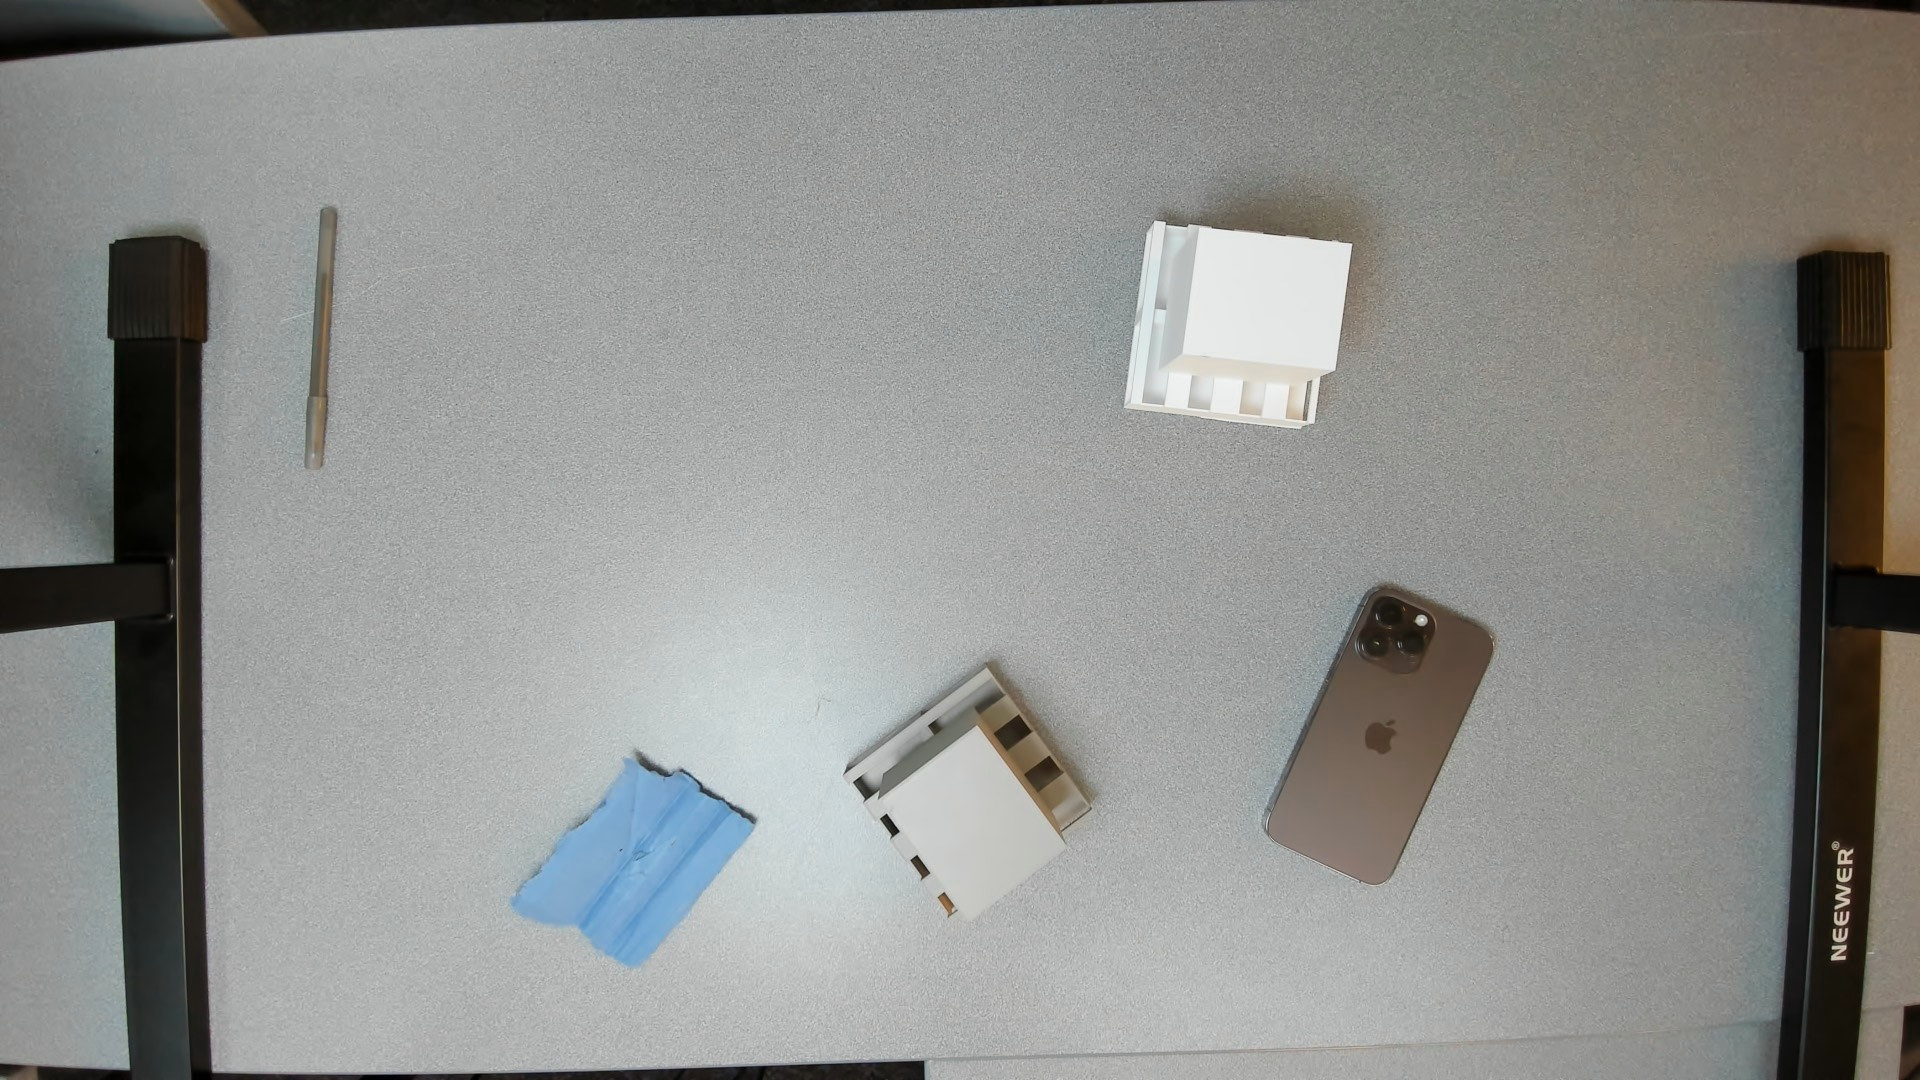grey pallet: (833, 655, 1120, 935)
white pallet: (1113, 212, 1358, 455)
